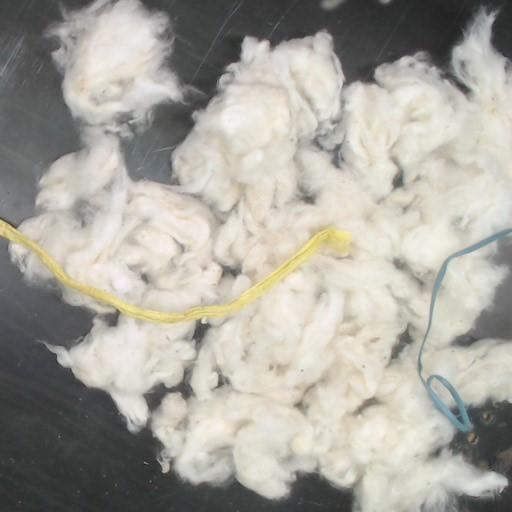cloth: (0, 219, 351, 324)
conveyor belt: (0, 241, 350, 511), (145, 0, 511, 97), (124, 99, 206, 181), (470, 404, 511, 463)
cotton: (9, 12, 511, 511)
thread: (418, 228, 511, 431)
